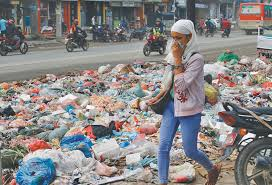garbage: (1, 83, 145, 185), (68, 70, 149, 185), (207, 58, 272, 101)
